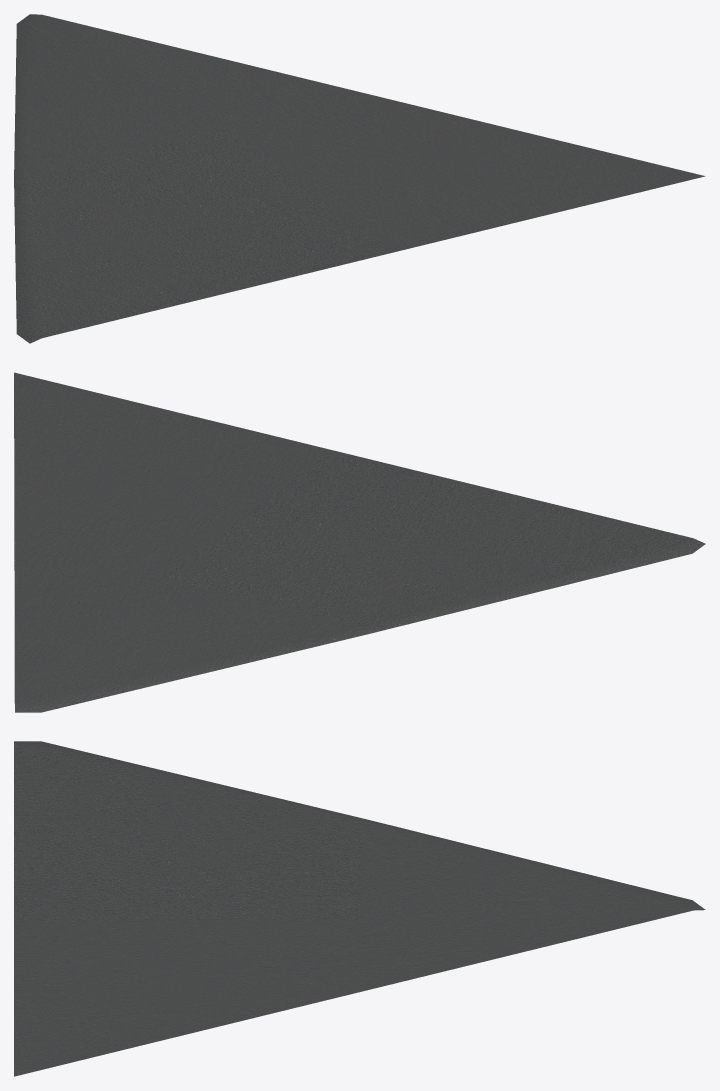
File: floor06.FBX
3 renders of one model, top to bottom at view 1: azimuth 30°, elevation 25°; view 2: azimuth 150°, elevation 25°; view 3: azimuth 270°, elevation 25°, orthographic. The views are drawn at different scales.
Visible parts, largest first — view 1: floor06; view 2: floor06; view 3: floor06.
Part boxes in pixels (x1,y1,x2,y2): floor06: (14, 14, 705, 343); floor06: (14, 372, 705, 712); floor06: (14, 741, 705, 1076).
Size of the model in its own units: 258 by 0.9204 by 223.
1 material, 1 textured.
